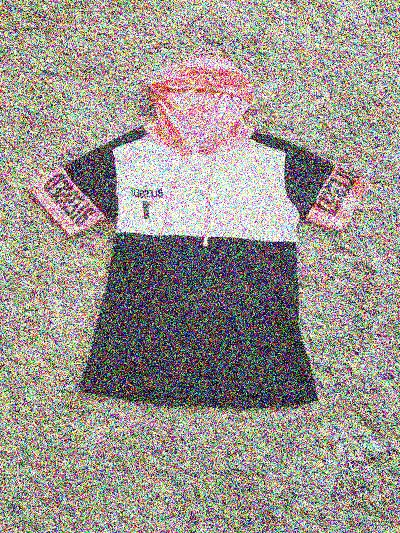Hoodie: (16, 56, 359, 417)
